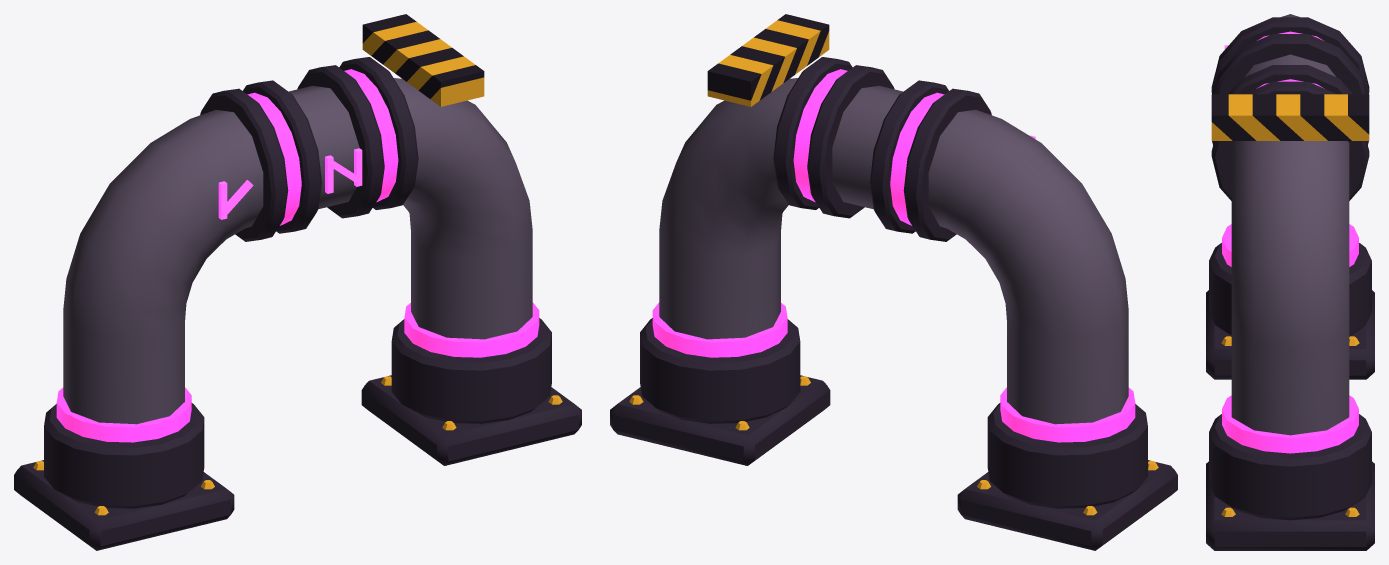
Rendered from pipe__lower.glb.
3 renders of one model, left to right at view 1: azimuth 30°, elevation 25°; view 2: azimuth 150°, elevation 25°; view 3: azimuth 270°, elevation 25°, orthographic.
Parts seen in each view (by area): view 1: Body; view 2: Body; view 3: Body.
Boxes of the visible parts, x1=… form: Body: x1=14, y1=14, x2=581, y2=550; Body: x1=610, y1=14, x2=1177, y2=550; Body: x1=1206, y1=14, x2=1374, y2=550.
Bounding box in the file's own units: 1.02 × 0.765 × 0.3.
